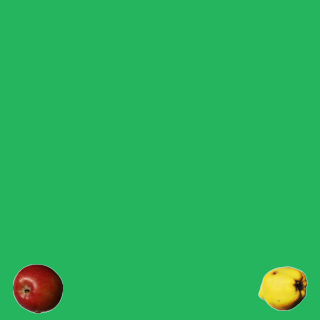Apple Braeburn: (12, 263, 62, 313)
Quince: (257, 263, 307, 313)
